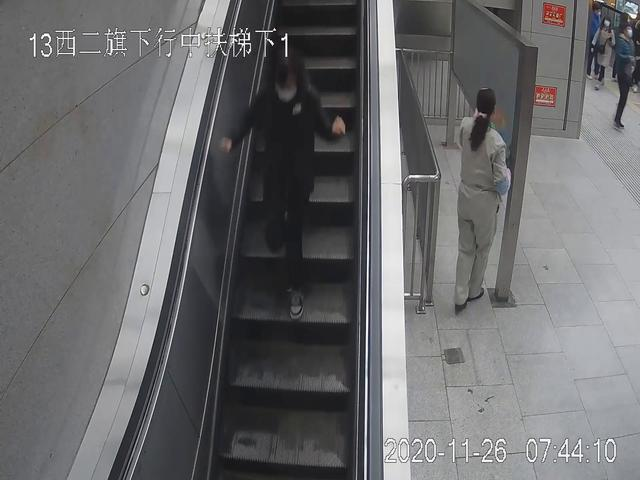person: (222, 50, 346, 321), (454, 87, 513, 313), (612, 24, 640, 128), (592, 17, 617, 91)
